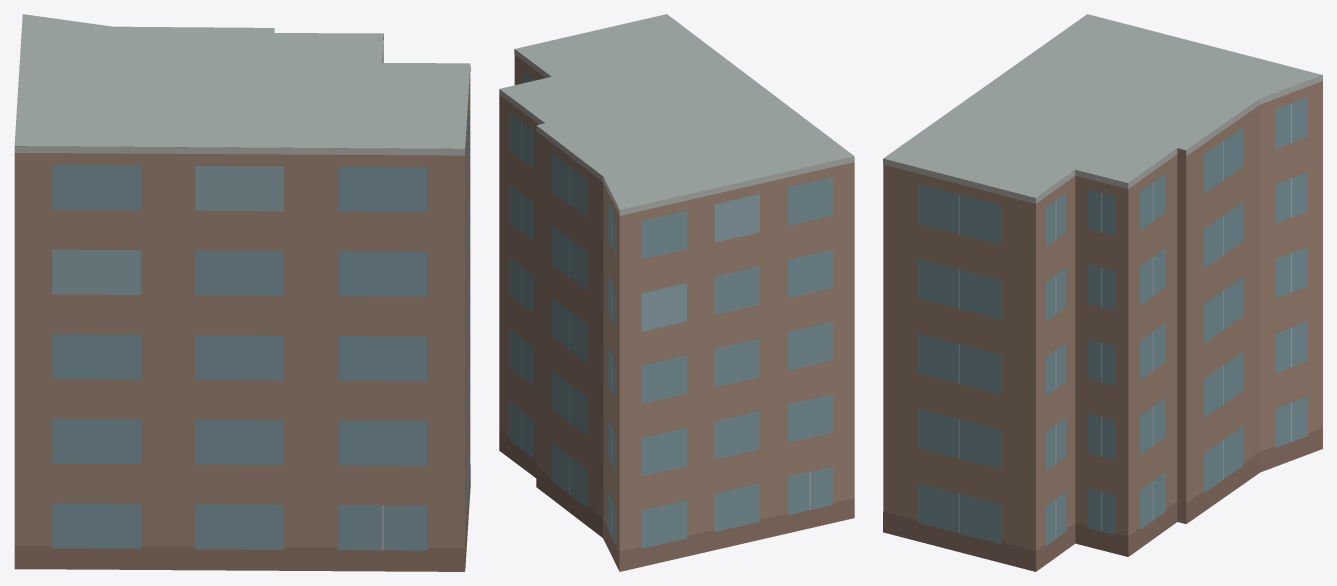
Rendered from survey-upis-32602608.glb.
3 views of the same model, side by side, from view 1: azimuth 30°, elevation 25°; view 2: azimuth 150°, elevation 25°; view 3: azimuth 270°, elevation 25° (orthographic). The views are drawn at different scales.
Visible parts, largest first — view 1: survey-upis-32602608.tmp; view 2: survey-upis-32602608.tmp; view 3: survey-upis-32602608.tmp.
Boxes of the visible parts, x1,y1,x2,y2 form: survey-upis-32602608.tmp: (14, 14, 470, 571); survey-upis-32602608.tmp: (499, 14, 854, 571); survey-upis-32602608.tmp: (883, 14, 1322, 571).
Size of the model in its own units: 16.11 by 15.25 by 16.26.
